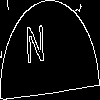N: (25, 24, 46, 73)
